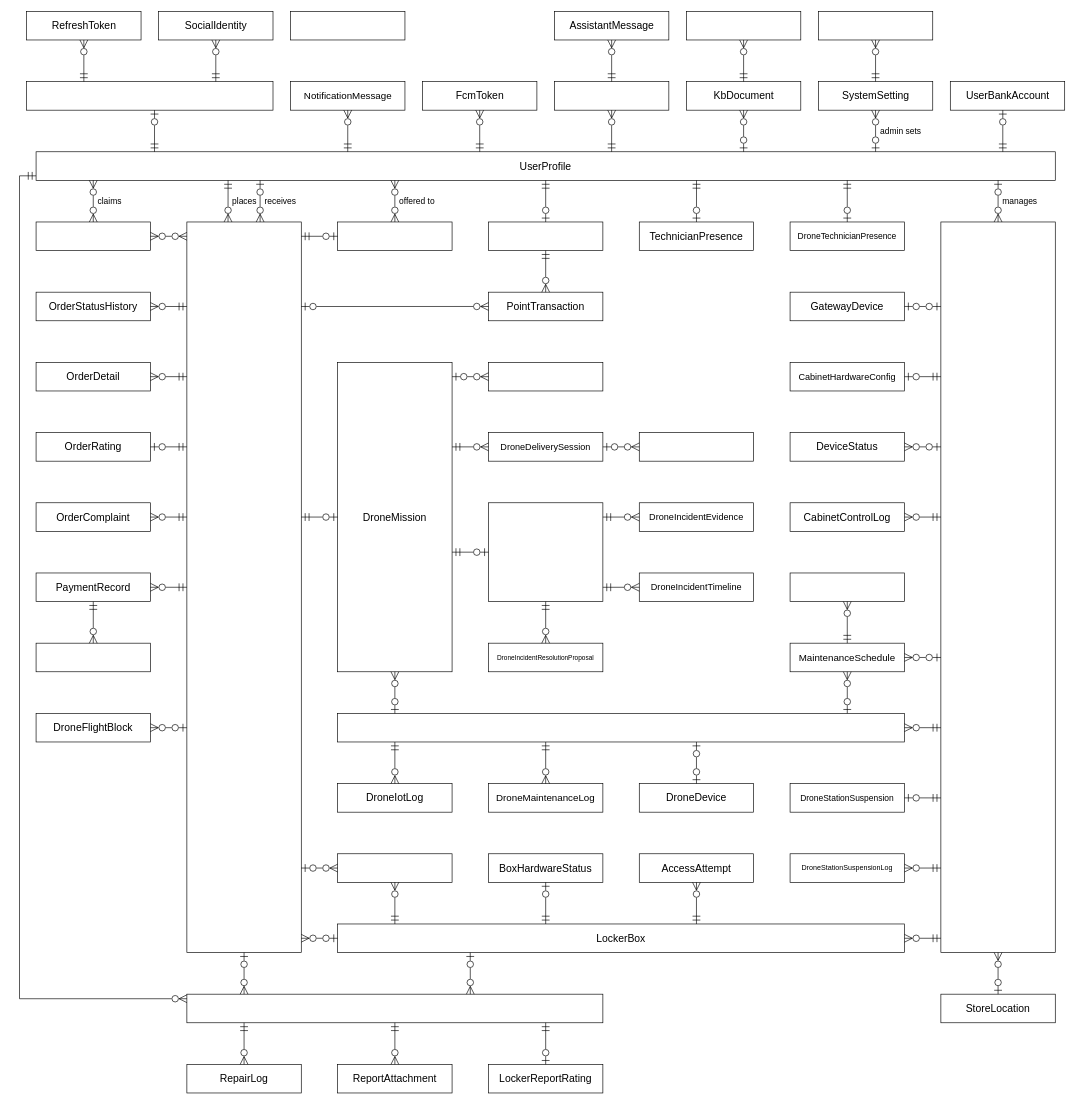
Some shapes in this 1076 by 1104 pixel diagram are drawn without their labels. Here are the shapes that lost their labels. From the top down, the centre of each, then its label:
At [347,25]: "EmailOtp".
At [743,25]: "KbChunk".
At [875,25]: "SystemSettingAudit".
At [149,95]: "AuthAccount".
At [611,95]: "AssistantConversation".
At [92,236]: "Promotion".
At [394,236]: "DronePickup".
At [545,236]: "LoyaltyAccount".
At [545,376]: "DroneFlightTrackPoint".
At [696,446]: "DroneLockerCommLog".
At [545,552]: "DroneParcelIncident".
At [243,587]: "LockerOrder".
At [846,587]: "MaintenanceInspectionLog".
At [997,587]: "LockerUnit".
At [92,657]: "RefundRecord".
At [620,727]: "DroneUnit".
At [394,867]: "BoxAccessLog".
At [394,1008]: "LockerReport".
